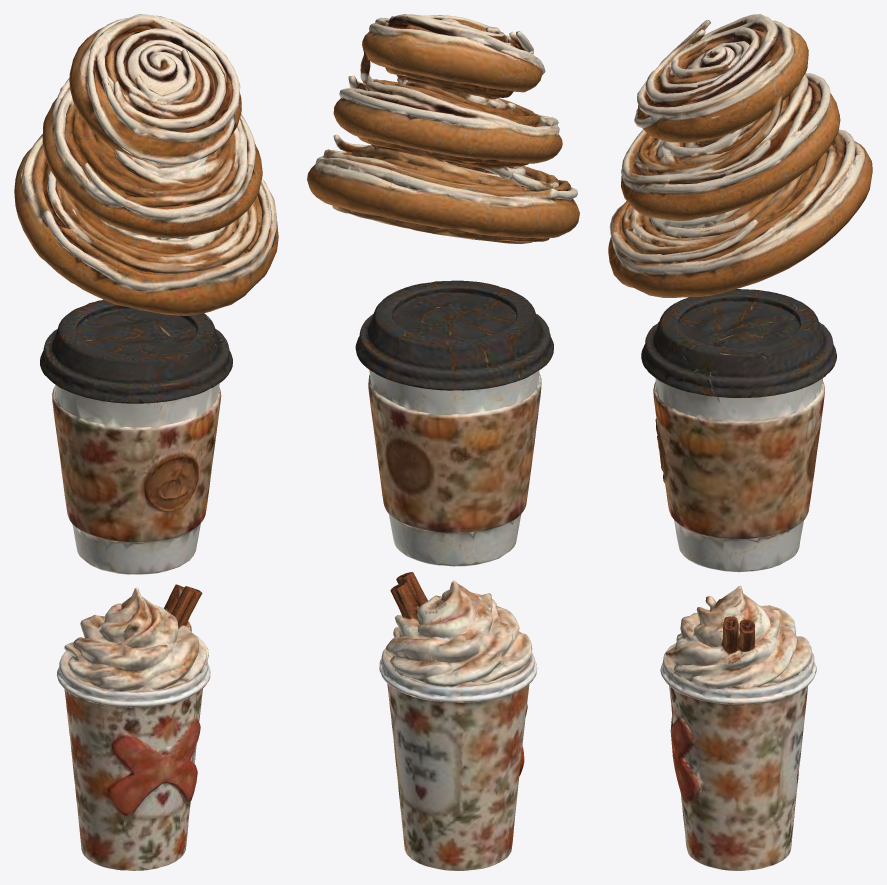
3 views of the same model, side by side, from view 1: azimuth 30°, elevation 25°; view 2: azimuth 150°, elevation 25°; view 3: azimuth 270°, elevation 25° (orthographic). The views are drawn at different scales.
Visible parts, largest first — view 1: Mesh 1, Mesh 2, Mesh 3; view 2: Mesh 1, Mesh 2, Mesh 3; view 3: Mesh 1, Mesh 2, Mesh 3.
Boxes of the visible parts, x1,y1,x2,y2 form: Mesh 1: (14,14,278,315); Mesh 2: (40,299,232,574); Mesh 3: (57,584,210,870); Mesh 1: (307,14,579,243); Mesh 2: (355,280,553,566); Mesh 3: (379,572,537,870); Mesh 1: (608,14,872,297); Mesh 2: (641,289,836,572); Mesh 3: (660,586,816,870).
Bounding box in the file's own units: 0.5642 × 1.9 × 0.55.
3 materials, 3 textured.
